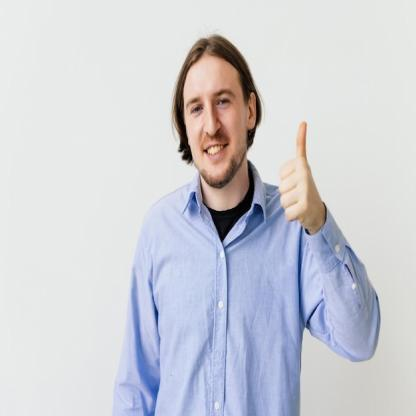thumb_up: (274, 116, 318, 228)
